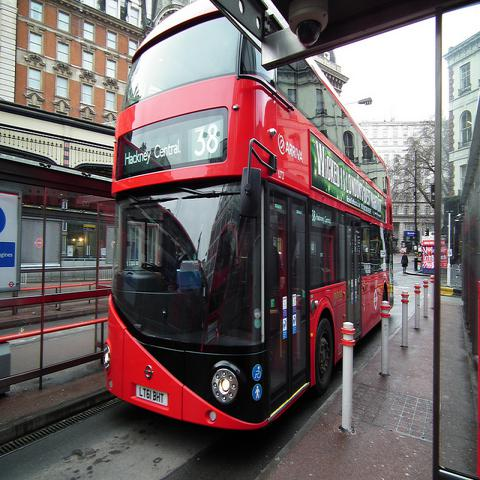bus: (105, 1, 396, 430)
